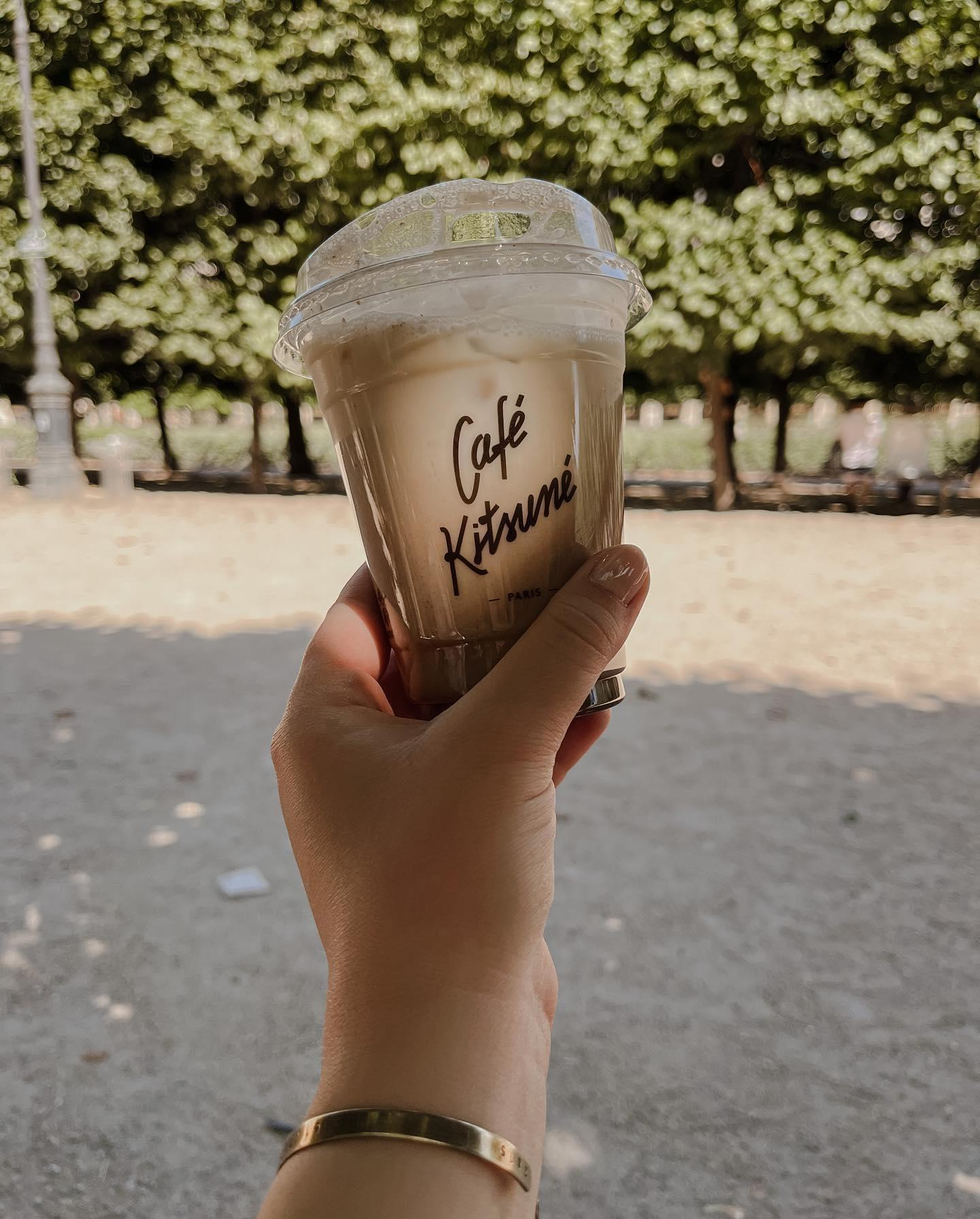cup-disposable: (282, 164, 659, 734)
